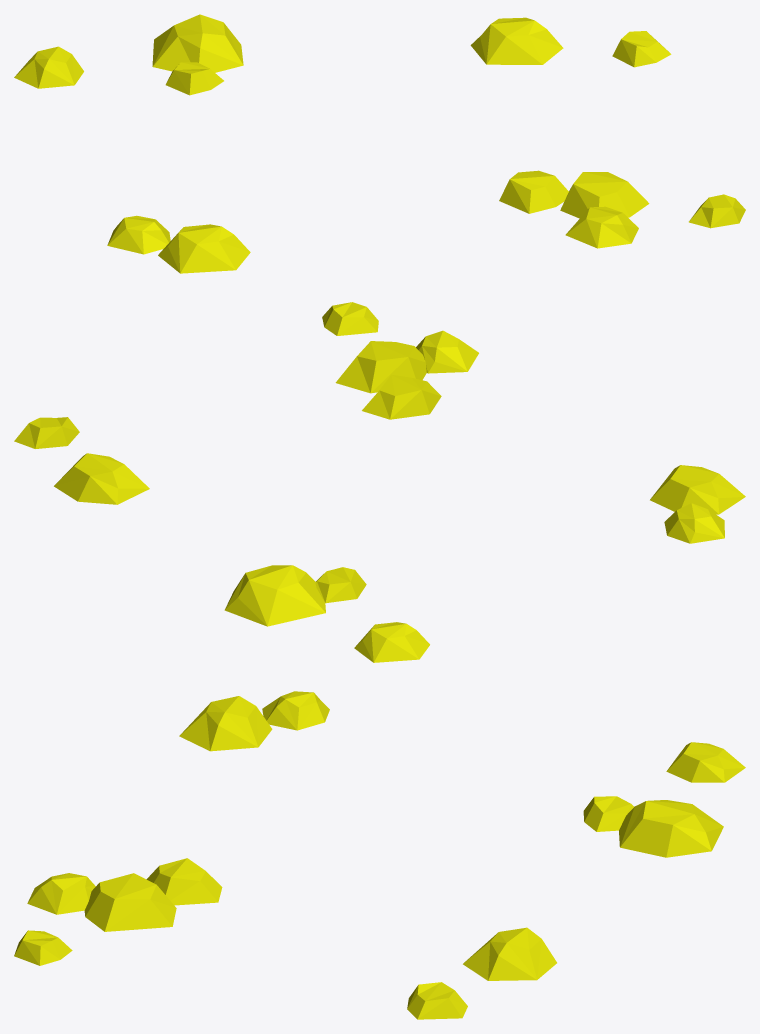
Rendered from SM_Generic_Small_Rocks_02.glb.
The picture shows the model from 3 angles, top to bottom: view 1: azimuth 30°, elevation 25°; view 2: azimuth 150°, elevation 25°; view 3: azimuth 270°, elevation 25°; orthographic projection. The views are drawn at different scales.
Parts seen in each view (by area): view 1: SM_Generic_Small_Rocks_02; view 2: SM_Generic_Small_Rocks_02; view 3: SM_Generic_Small_Rocks_02.
Boxes of the visible parts, <box> form: SM_Generic_Small_Rocks_02: <box>14,14,745,273</box>; SM_Generic_Small_Rocks_02: <box>14,302,745,662</box>; SM_Generic_Small_Rocks_02: <box>14,691,745,1019</box>.
Bounding box in the file's own units: 2.04 × 0.095 × 1.97.
1 material, 1 textured.
